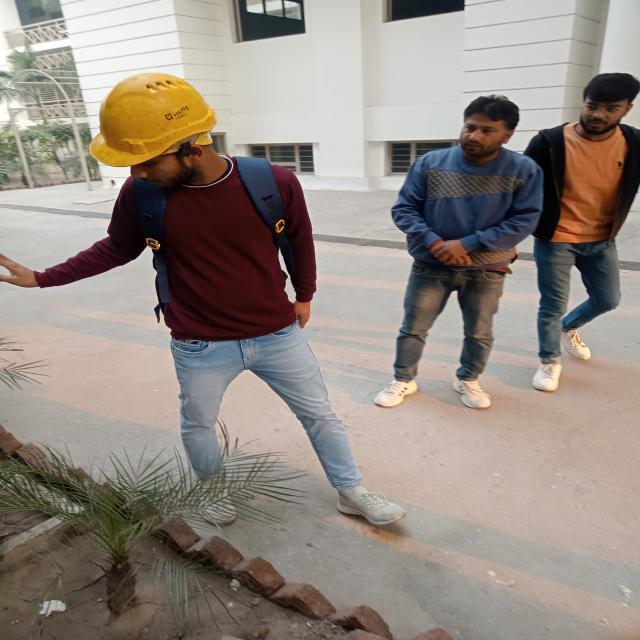no jacket: (60, 72, 408, 534)
unsafe: (370, 95, 528, 418), (528, 68, 640, 402)
